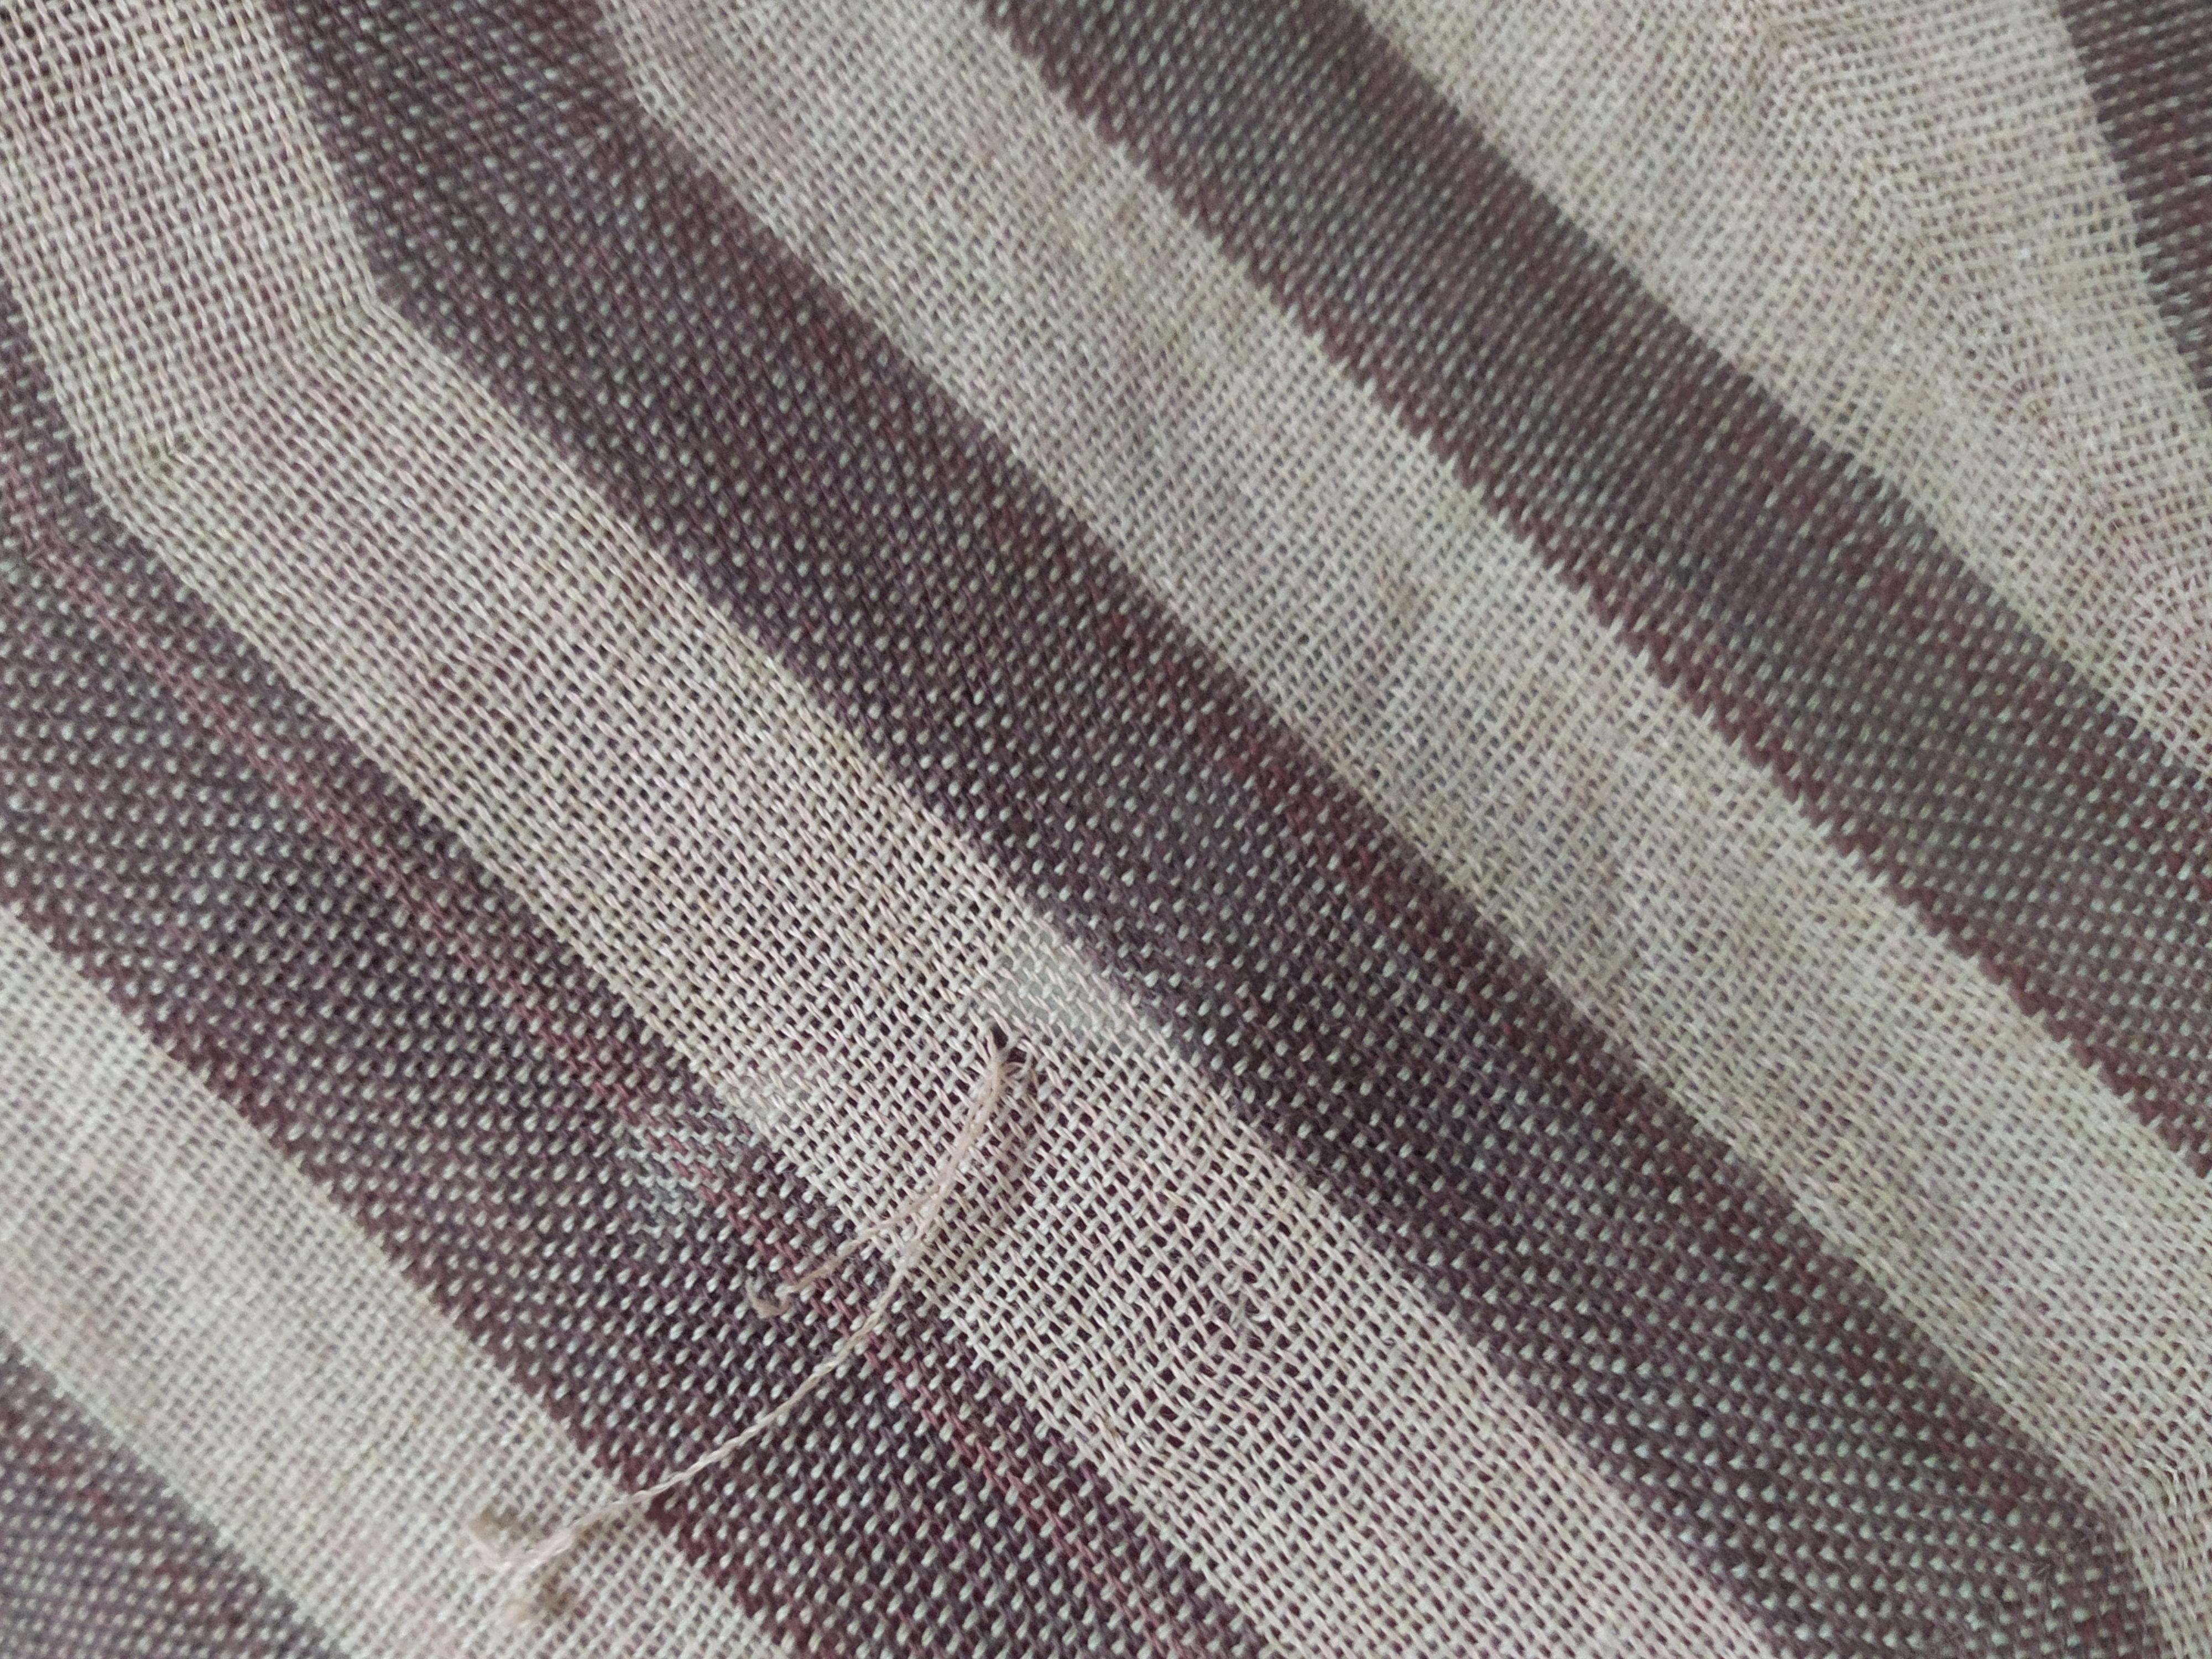snag: (446, 1006, 1075, 1612)
